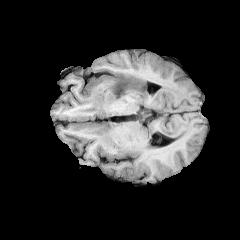glioma: (104, 72, 149, 99)
